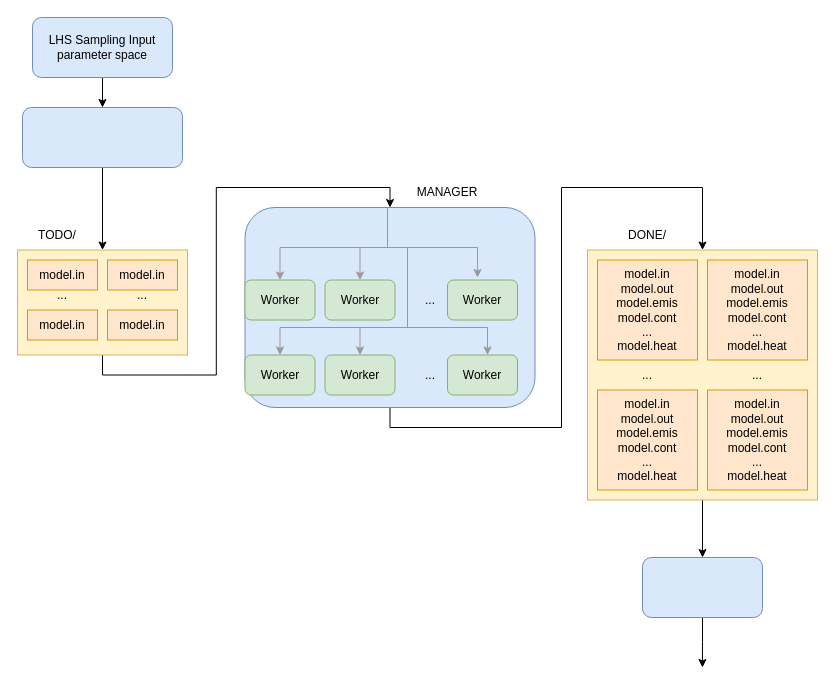
The diagram is 835 pixels wide and 693 high, and some of its shapes have lost their labels. The centre of each missing label's shape, as x and y in pixels:
"Creation of INPUT files" goes at point (102, 137).
"Parsing CLOUDY outputs" goes at point (702, 587).
